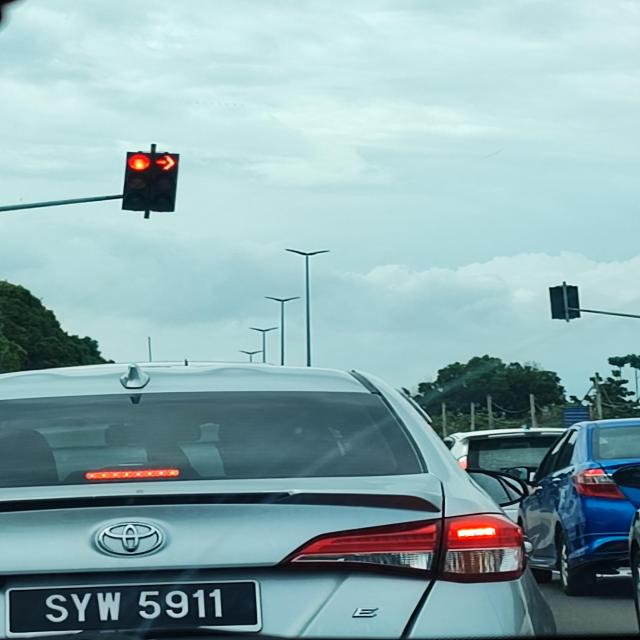car: (0, 361, 560, 640), (517, 416, 640, 597)
traffic light: (122, 151, 179, 216), (121, 152, 152, 215), (150, 153, 179, 213), (549, 284, 580, 322)
